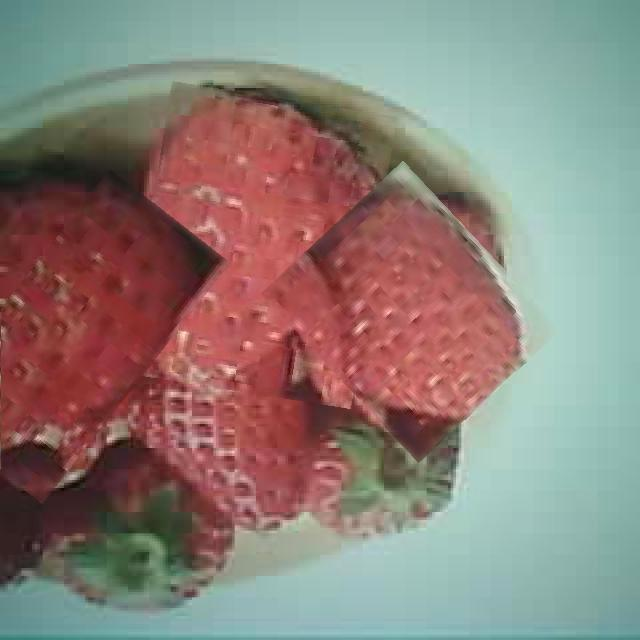strawberry: (136, 88, 386, 400), (286, 178, 534, 446), (0, 176, 192, 497)
